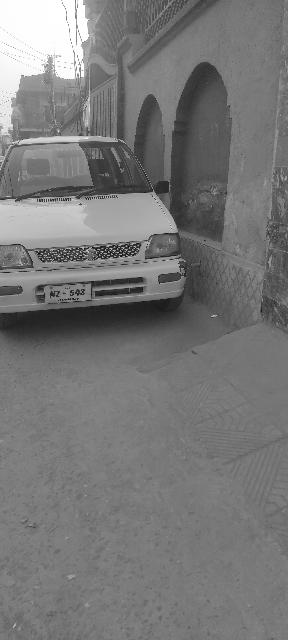Number: (47, 287, 88, 299)
